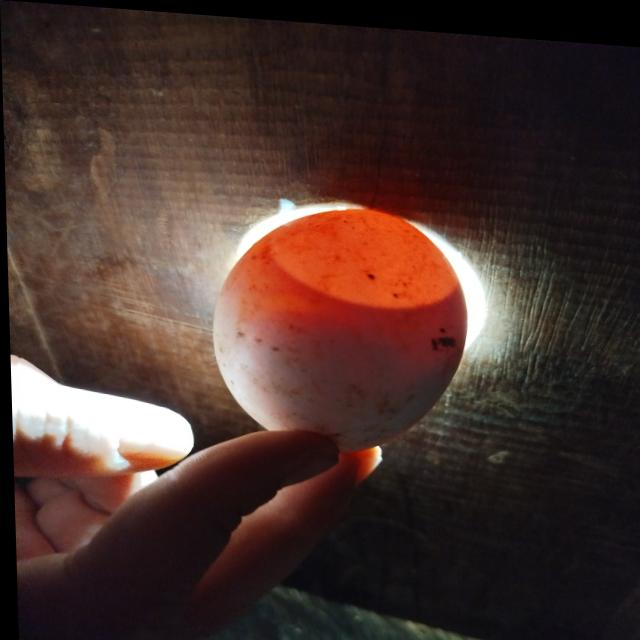Embriao: (212, 327, 461, 446)
